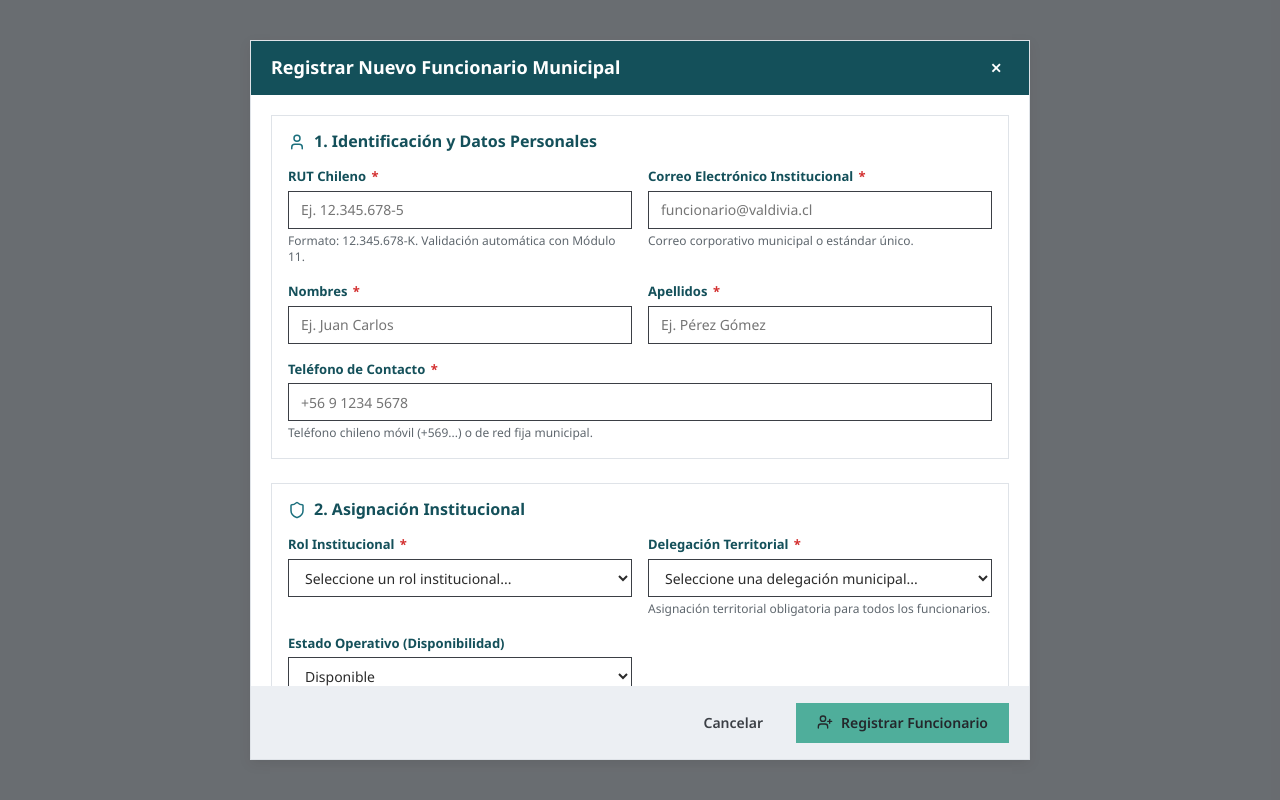
Test: RegistrarEmpleadoModal › debe mostrar advertencias de campos obligatorios al intentar enviar formulario vacío
Click the button "Registrar Funcionario" at (902, 723), box 796,703 -> 1009,743
(page scrolled)
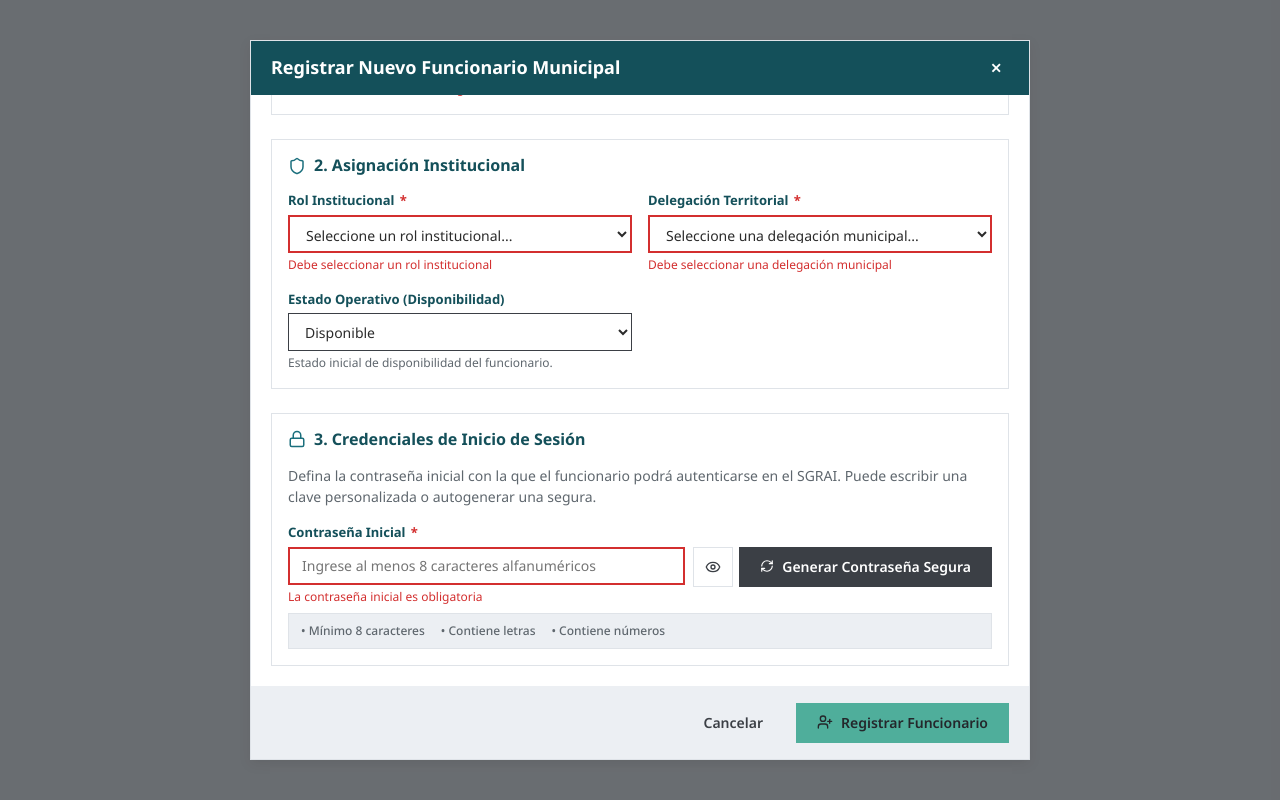
Check: the text "Debe seleccionar un rol institucional" is shown, box 288,256 -> 492,273
Check: the text "Debe seleccionar una delegación municipal" is shown, box 648,256 -> 892,273
Check: the text "La contraseña inicial es obligatoria" is shown, box 288,588 -> 482,604
